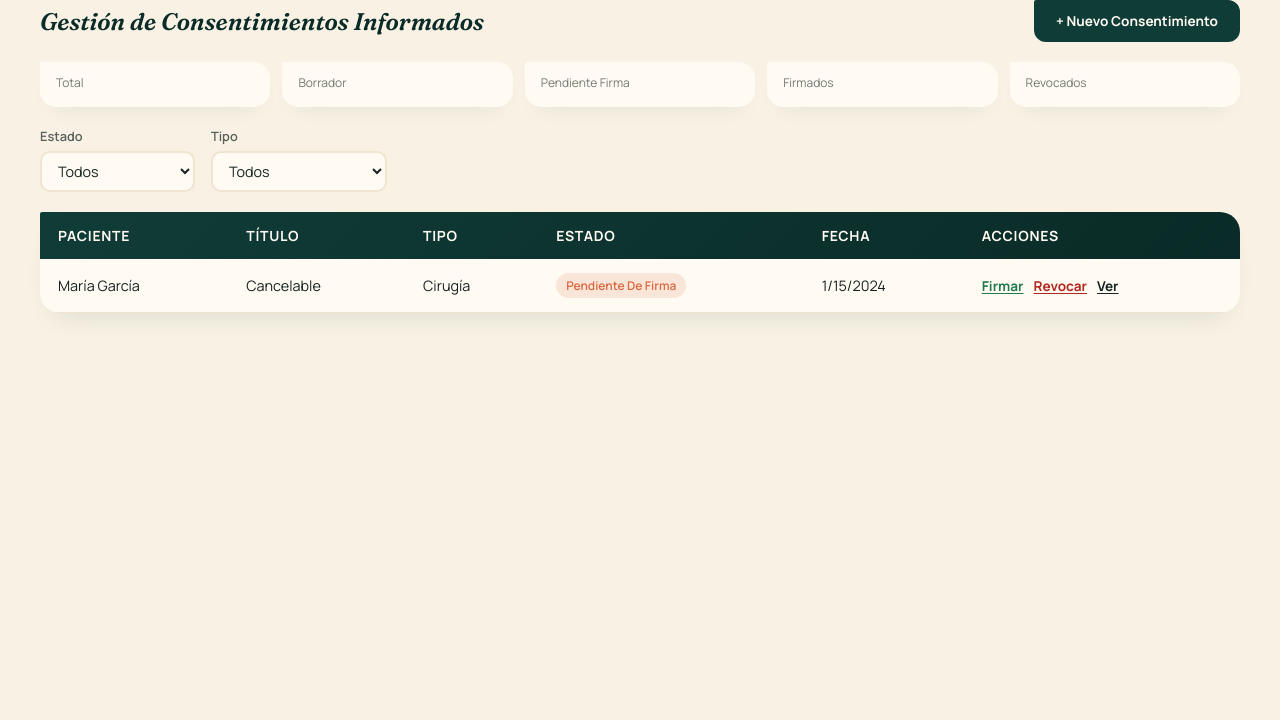
it: ConsentManagement › Consent list actions › cancels signature modal
This screenshot has width=1280, height=720.
Expected: the text "Cancelable" is shown, [228,259,405,312]
Click the button "Firmar": (1003, 286) [982,276,1024,294]
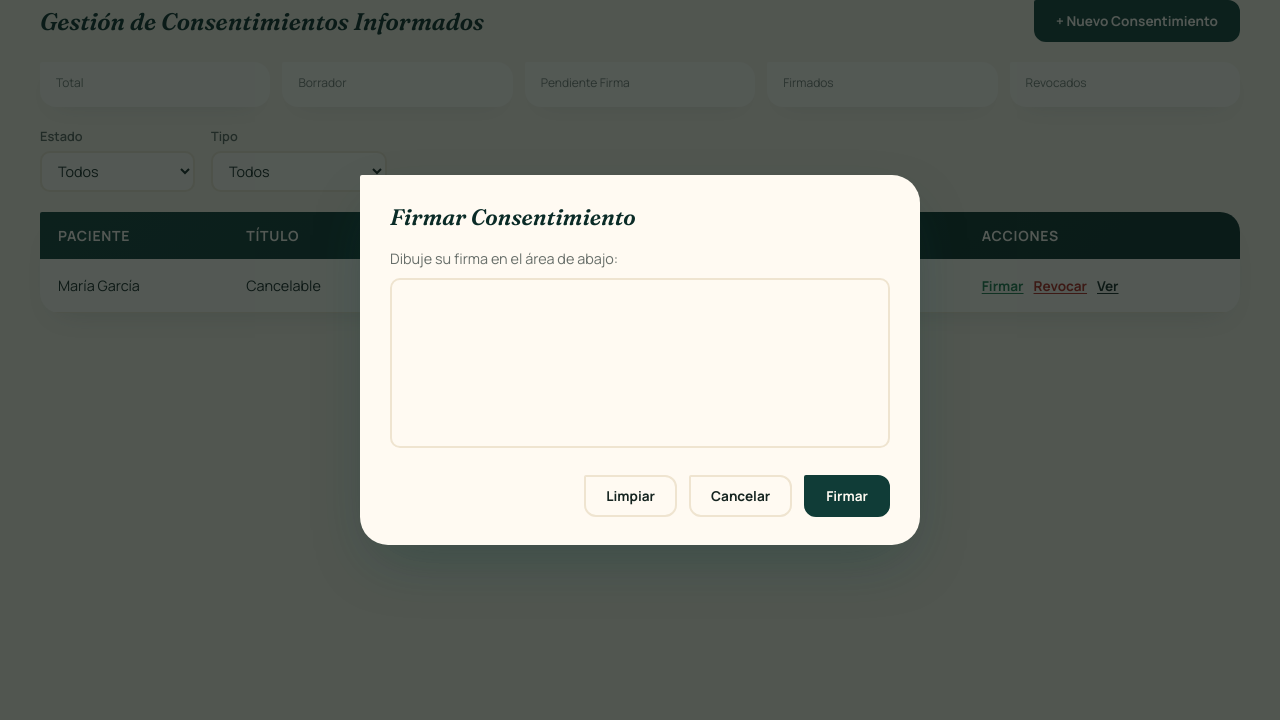
Click the button "Cancelar": (741, 496) [689,475,792,517]
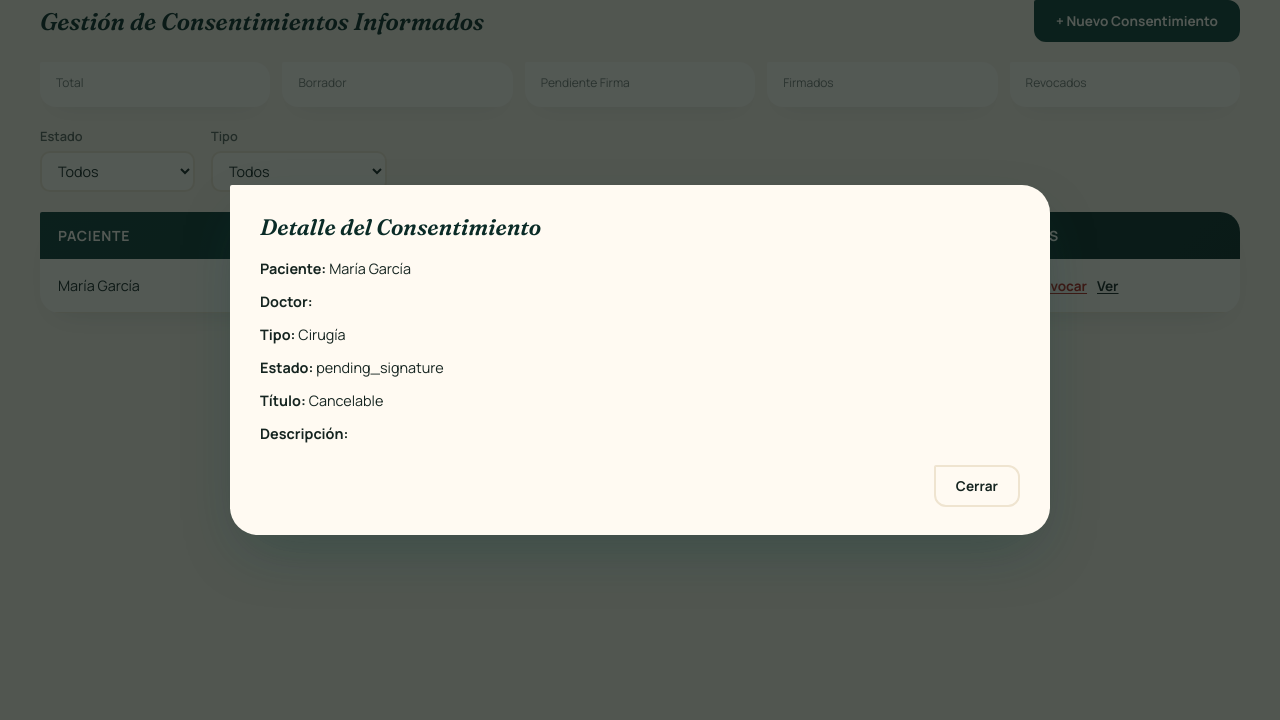
Expected: the heading "Firmar Consentimiento" is gone
